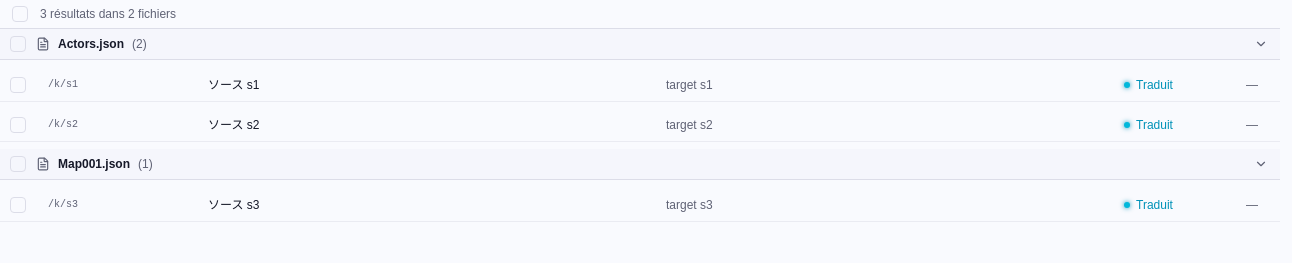
Test: GlobalSearchResults — cross-file selection + batch translate › file header checkbox selects/deselects all hits of that file (tri-state)
The width and height of the screenshot is (1292, 263).
Note: Check the Actors.json header → its 2 hits are selected, not Map001's.
What coordinates should you click on to do the following:
click the checkbox named "Tout sélectionner dans Actors.json"
I would click on:
 (18, 44)
Its box is [10,36,26,52].
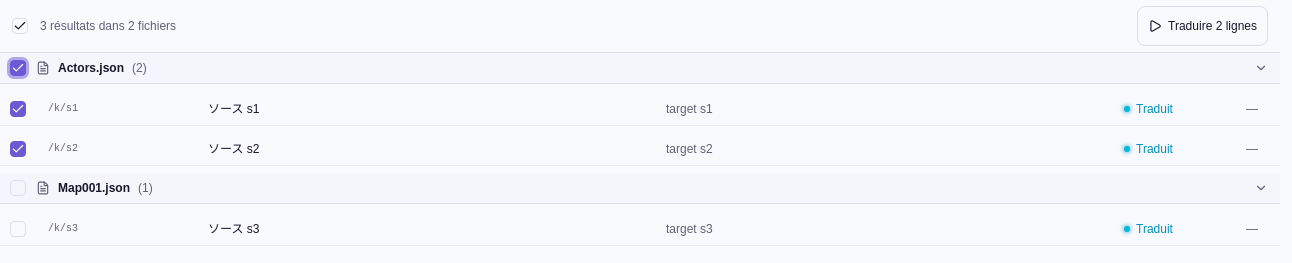
What coordinates should you click on to do the following:
click the button "Traduire 2 lignes"
I would click on:
 (1203, 26)
Its box is [1137,6,1268,46].
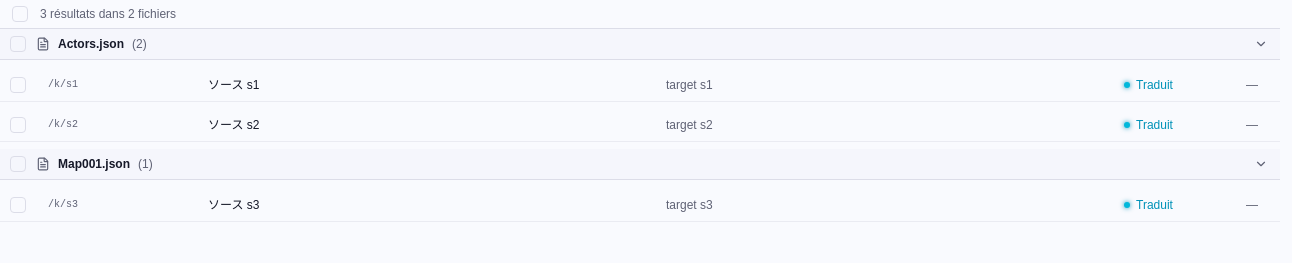
What coordinates should you click on to do the following:
click the checkbox next to "/k/s1"
I would click on:
 (18, 85)
Its box is [10,77,26,93].
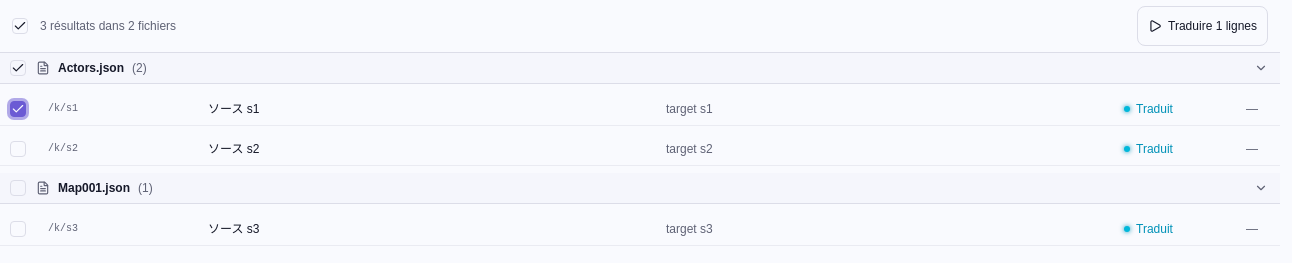
Now the checkbox named "Tout sélectionner dans Actors.json" has attribute aria-checked="mixed"
What coordinates should you click on to do the following:
click the checkbox named "Tout sélectionner dans Actors.json"
I would click on:
 (18, 68)
Its box is [10,60,26,76].
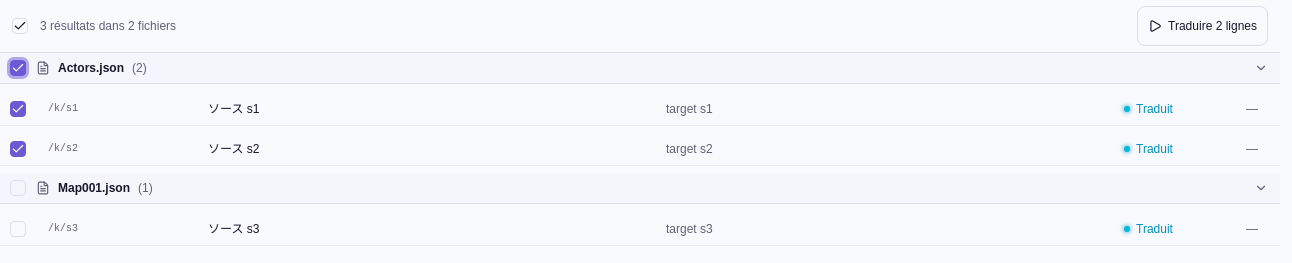
Note: Unchecking the header empties the file's selection entirely.
What coordinates should you click on to do the following:
click the checkbox named "Tout sélectionner dans Actors.json"
I would click on:
 (18, 68)
Its box is [10,60,26,76].
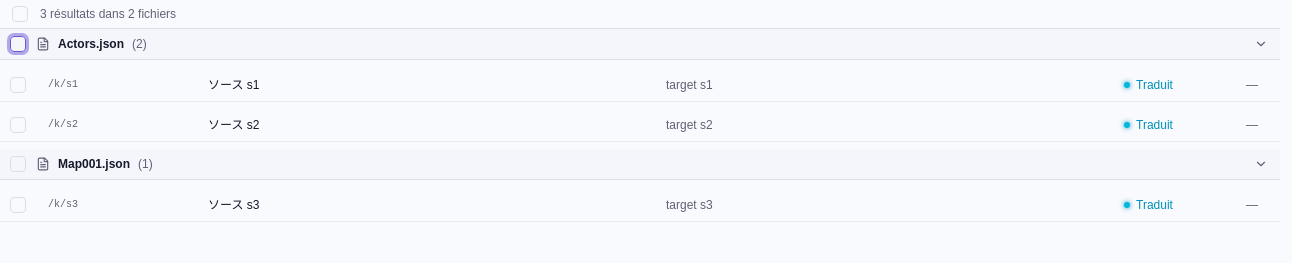
Now the button "Traduire" is gone
